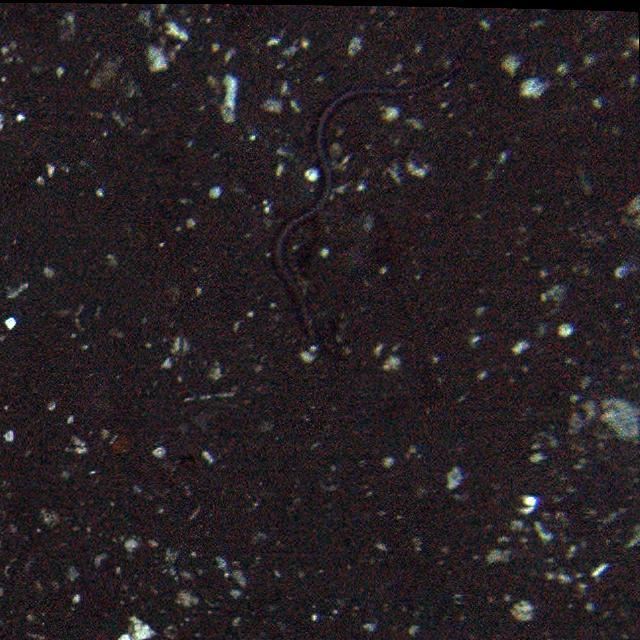eel: (272, 61, 476, 337)
